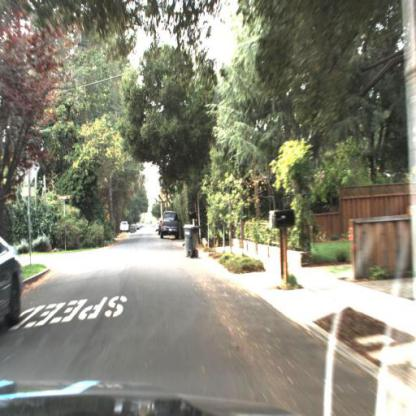car: (1, 231, 25, 332), (161, 212, 182, 243), (118, 215, 132, 239)
